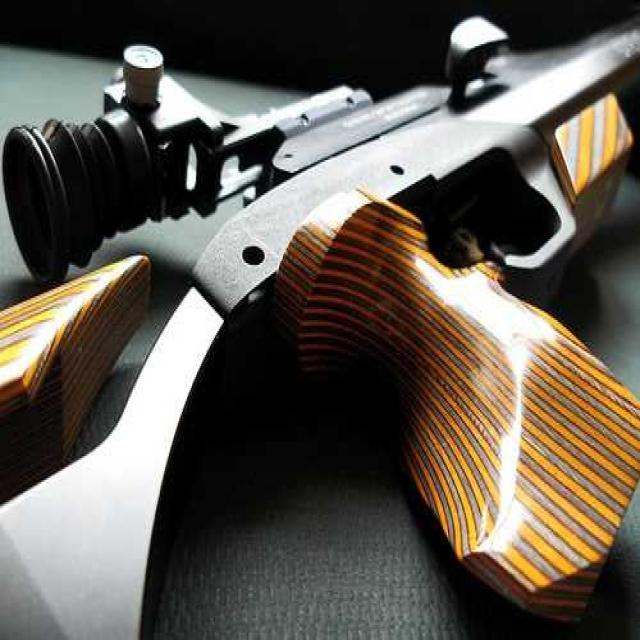heavyweapon: (1, 1, 631, 640)
